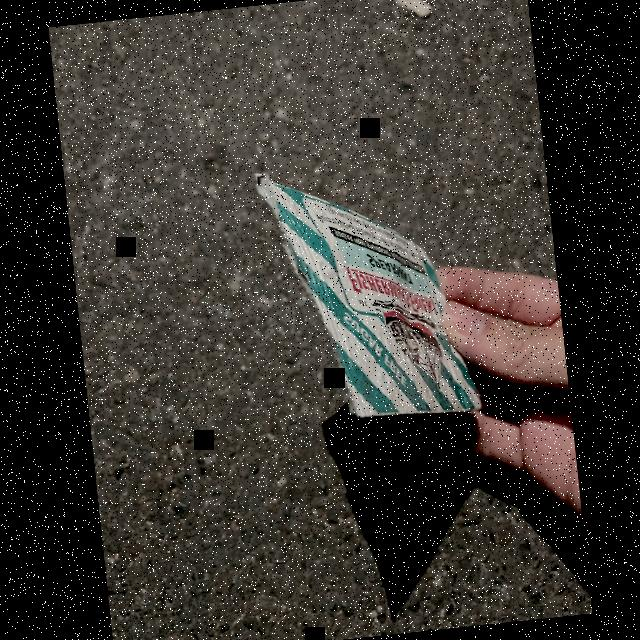snack_bag: (225, 137, 506, 449)
